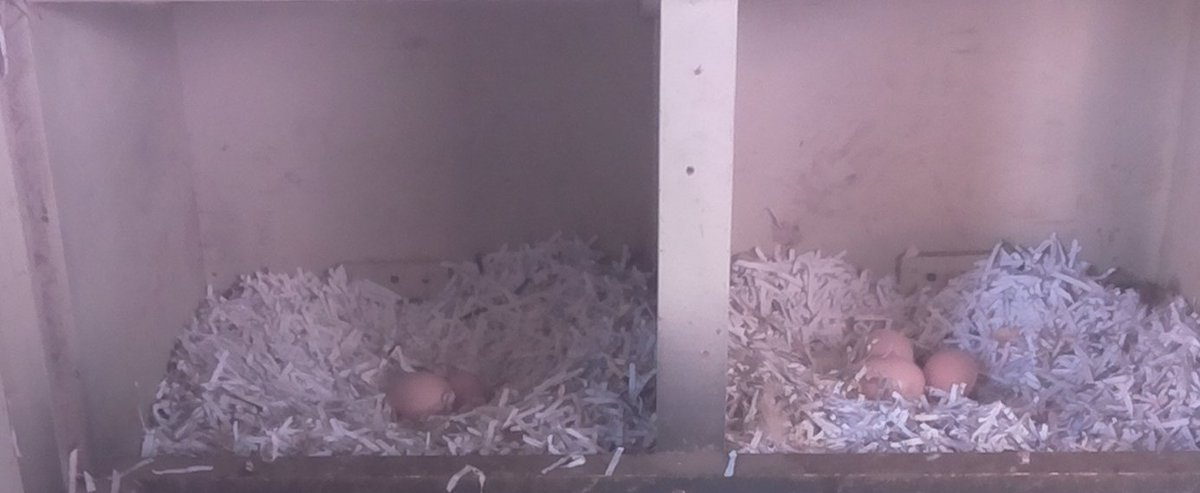egg: (853, 351, 930, 410), (383, 370, 457, 428), (918, 346, 988, 397), (849, 327, 918, 362), (441, 368, 488, 412)
